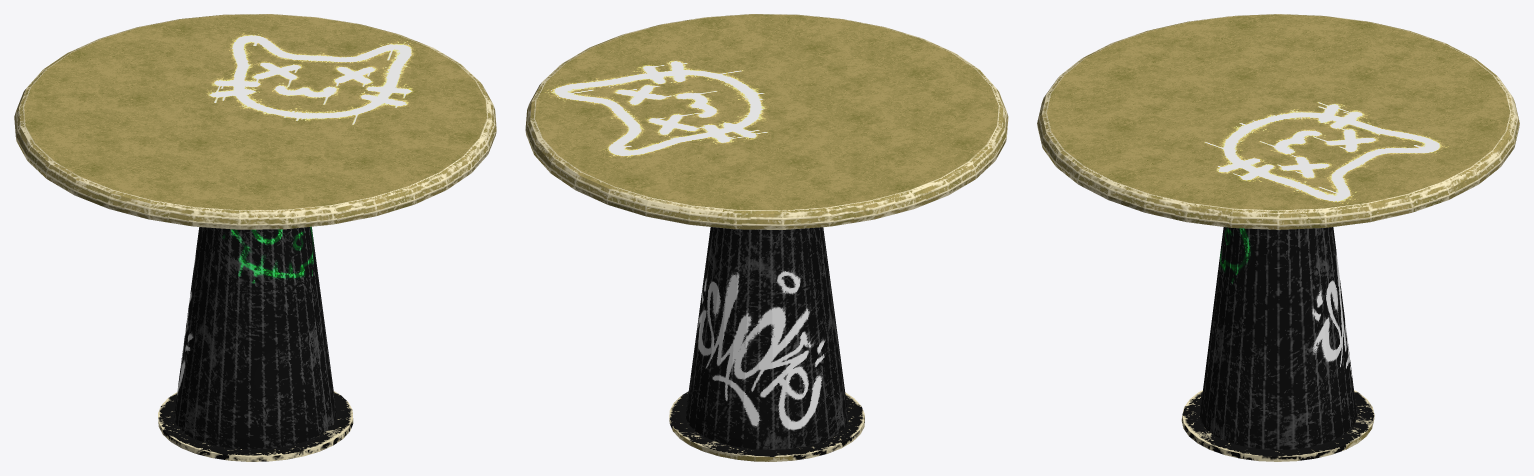
The model's file is Ext_Mesa_V1.glb.
The picture shows the model from 3 angles, left to right: view 1: azimuth 30°, elevation 25°; view 2: azimuth 150°, elevation 25°; view 3: azimuth 270°, elevation 25°; orthographic projection.
Visible parts, largest first — view 1: Ext_Mesa_V1; view 2: Ext_Mesa_V1; view 3: Ext_Mesa_V1.
Part boxes in pixels (x1,y1,x2,y2): Ext_Mesa_V1: (14,14,496,461); Ext_Mesa_V1: (525,14,1008,461); Ext_Mesa_V1: (1037,14,1519,461).
Size of the model in its own units: 1.28 by 0.9001 by 1.28.
1 material, 1 textured.
